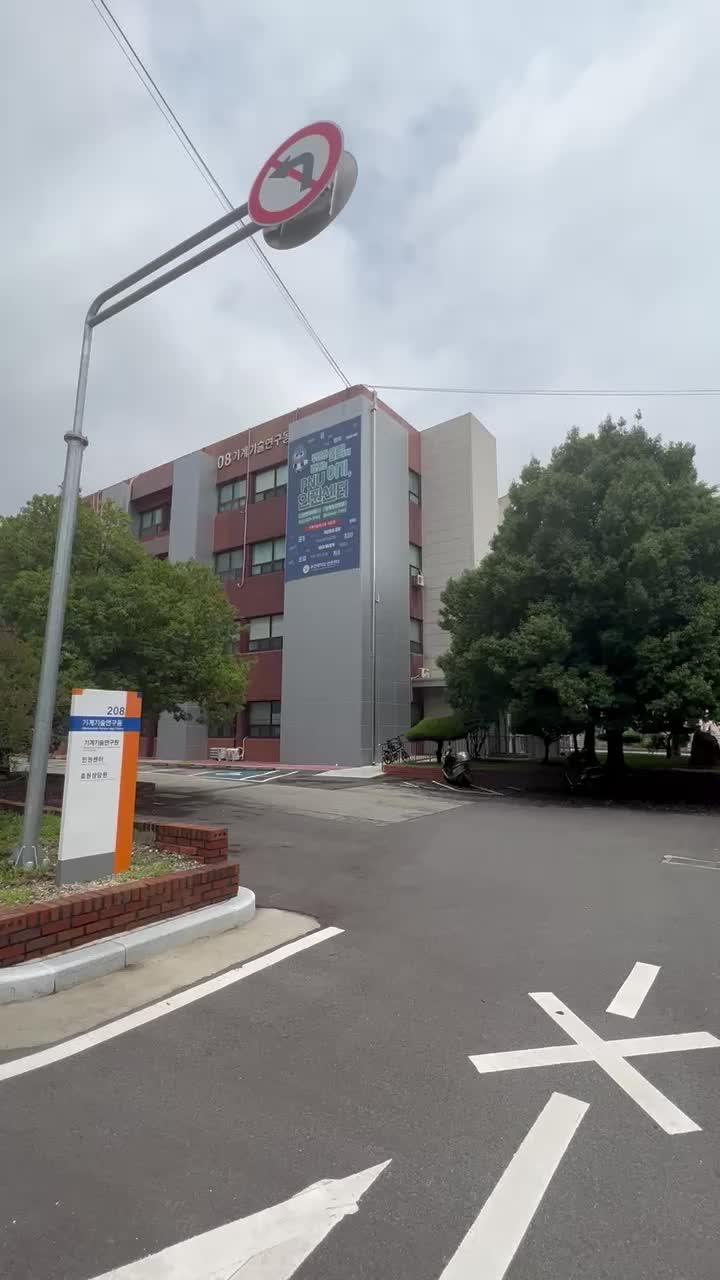building: (222, 406, 432, 766)
